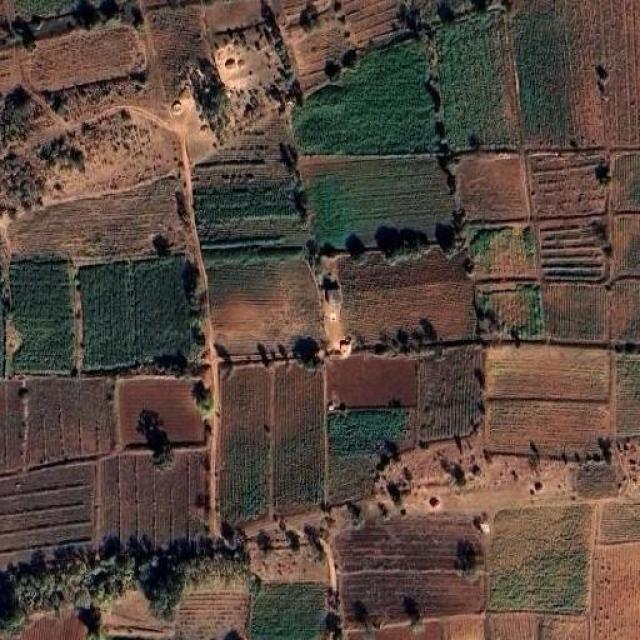land-Sx1C: (510, 0, 640, 149), (294, 39, 436, 154), (10, 176, 185, 264), (195, 118, 308, 247), (300, 156, 454, 247), (336, 245, 475, 342), (328, 356, 418, 502), (80, 256, 195, 369), (204, 251, 322, 355), (489, 504, 591, 612), (438, 12, 516, 151), (0, 380, 114, 473), (96, 448, 205, 544), (0, 461, 93, 567), (340, 514, 488, 571), (268, 0, 355, 94), (485, 397, 611, 461), (24, 26, 148, 91), (341, 571, 485, 626), (220, 365, 270, 522), (274, 362, 324, 511), (116, 376, 204, 456), (11, 262, 74, 373), (488, 344, 608, 401), (416, 345, 484, 442), (529, 151, 615, 222), (151, 5, 208, 101), (455, 152, 528, 221), (591, 543, 640, 639), (329, 355, 416, 408), (252, 582, 324, 640), (540, 224, 606, 281), (329, 409, 409, 456), (246, 541, 330, 584), (4, 602, 99, 640), (176, 590, 249, 639), (475, 286, 542, 339), (102, 591, 175, 639), (545, 286, 605, 341), (174, 549, 255, 589), (471, 226, 535, 273), (607, 353, 640, 436), (344, 0, 400, 46), (609, 278, 640, 351), (610, 212, 640, 286), (608, 149, 640, 215), (205, 0, 261, 33), (598, 502, 640, 543), (488, 612, 539, 640), (539, 615, 589, 640), (442, 615, 485, 640), (0, 48, 22, 93)
